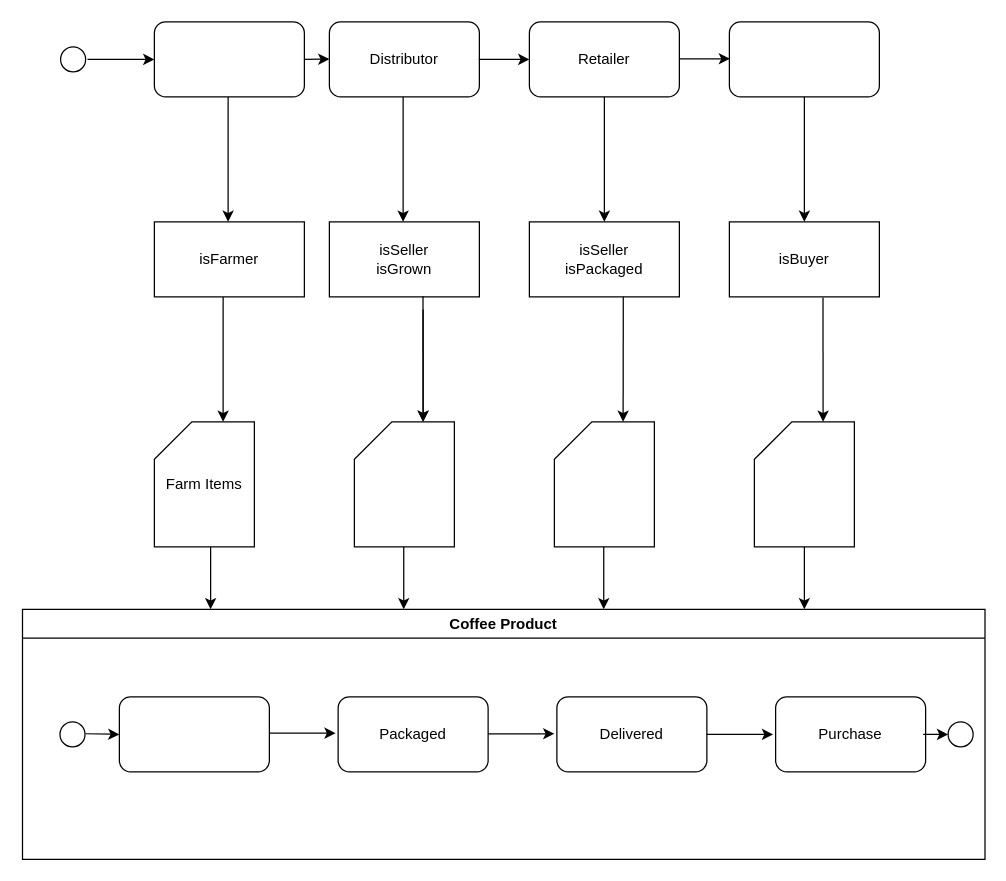
Some shapes in this 1006 by 881 pixel diagram are drawn without their labels. The centre of each missing label's shape, as x and y in pixels:
Consumer: pixel 803 59
Farmer: pixel 228 59
Harvest: pixel 193 734
Make Purchase: pixel 803 484
Package Product: pixel 403 484
Ready for Sale: pixel 603 484
